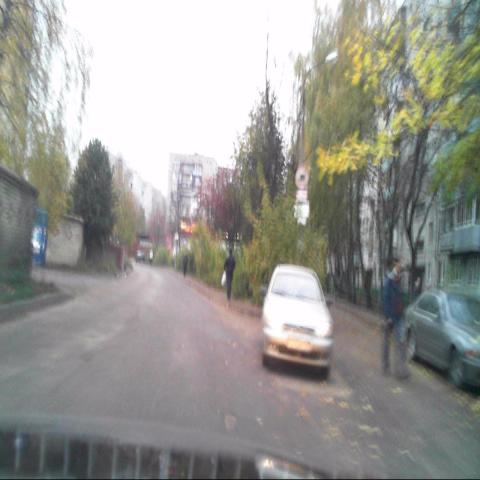3_4_1: (295, 167, 308, 188)
